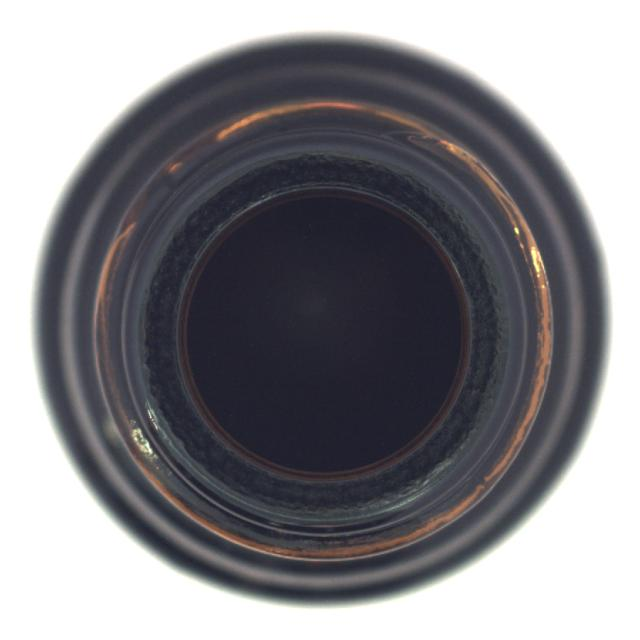bottle-good: (31, 34, 601, 605)
